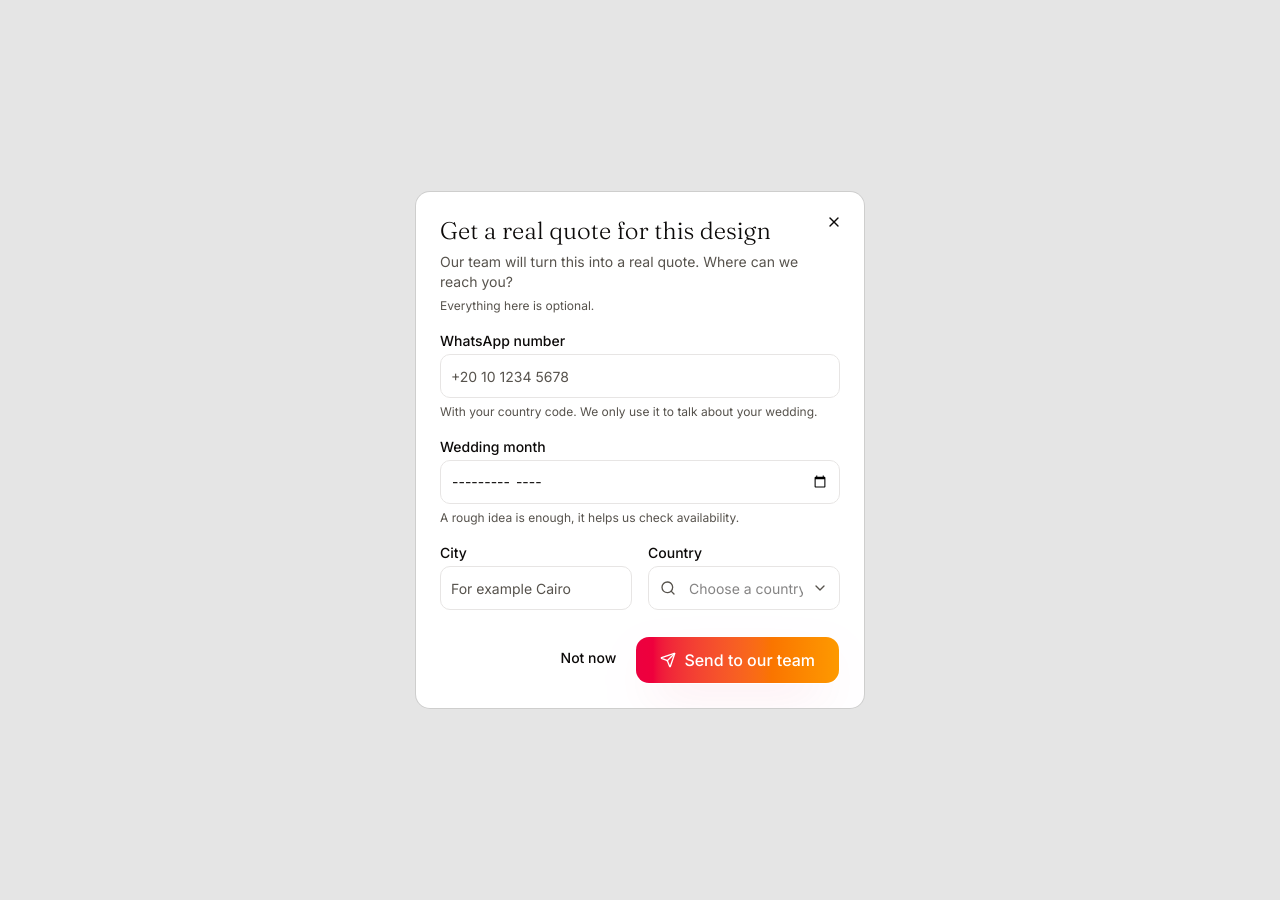
Scenario: ApproveDesignDialog › stops a phone that is not a number, and says how to fix it
In the field labelled "WhatsApp number": (640, 376) [440,354,840,398], type "call my mum"
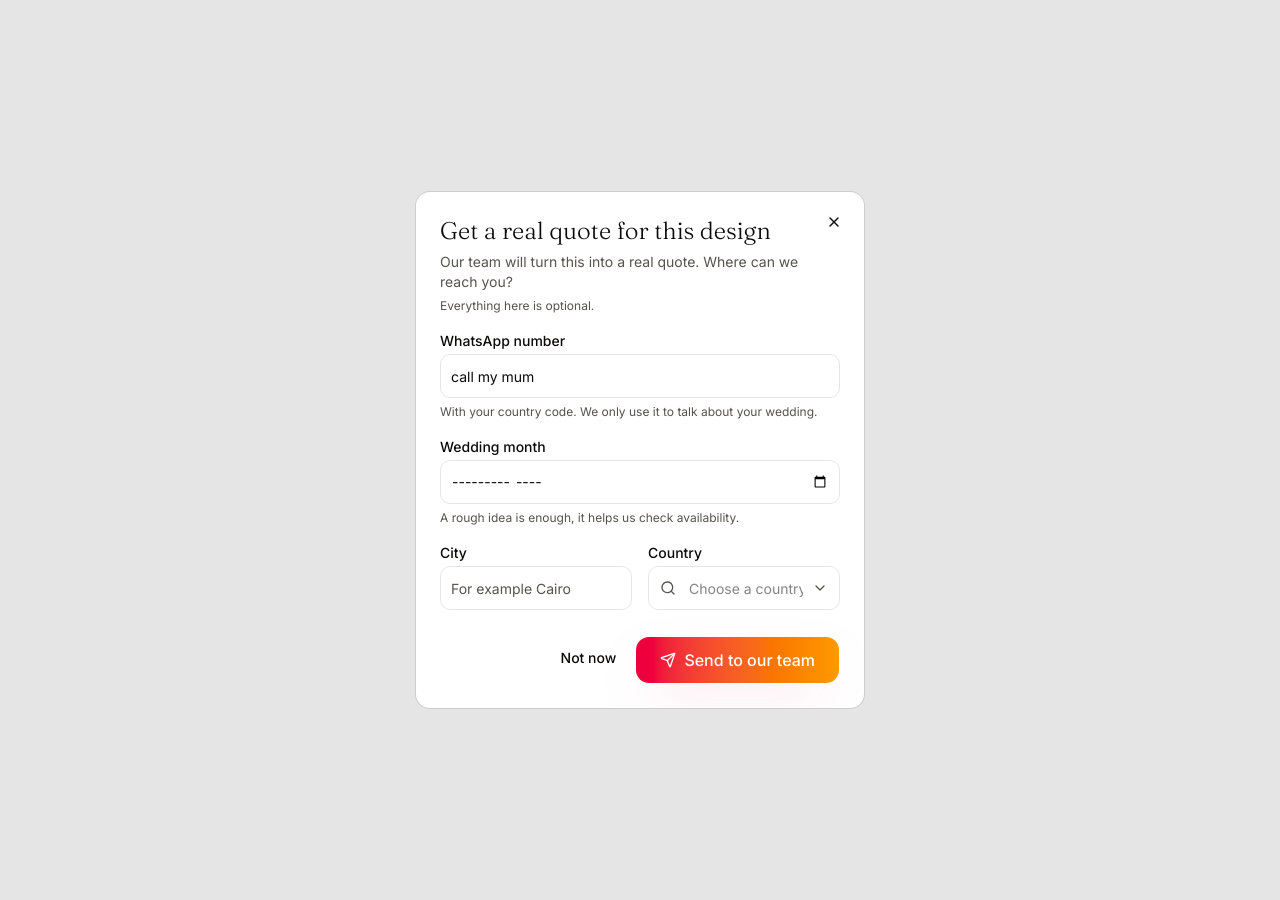
Click the button "Send to our team": (738, 660) [635,636,840,684]
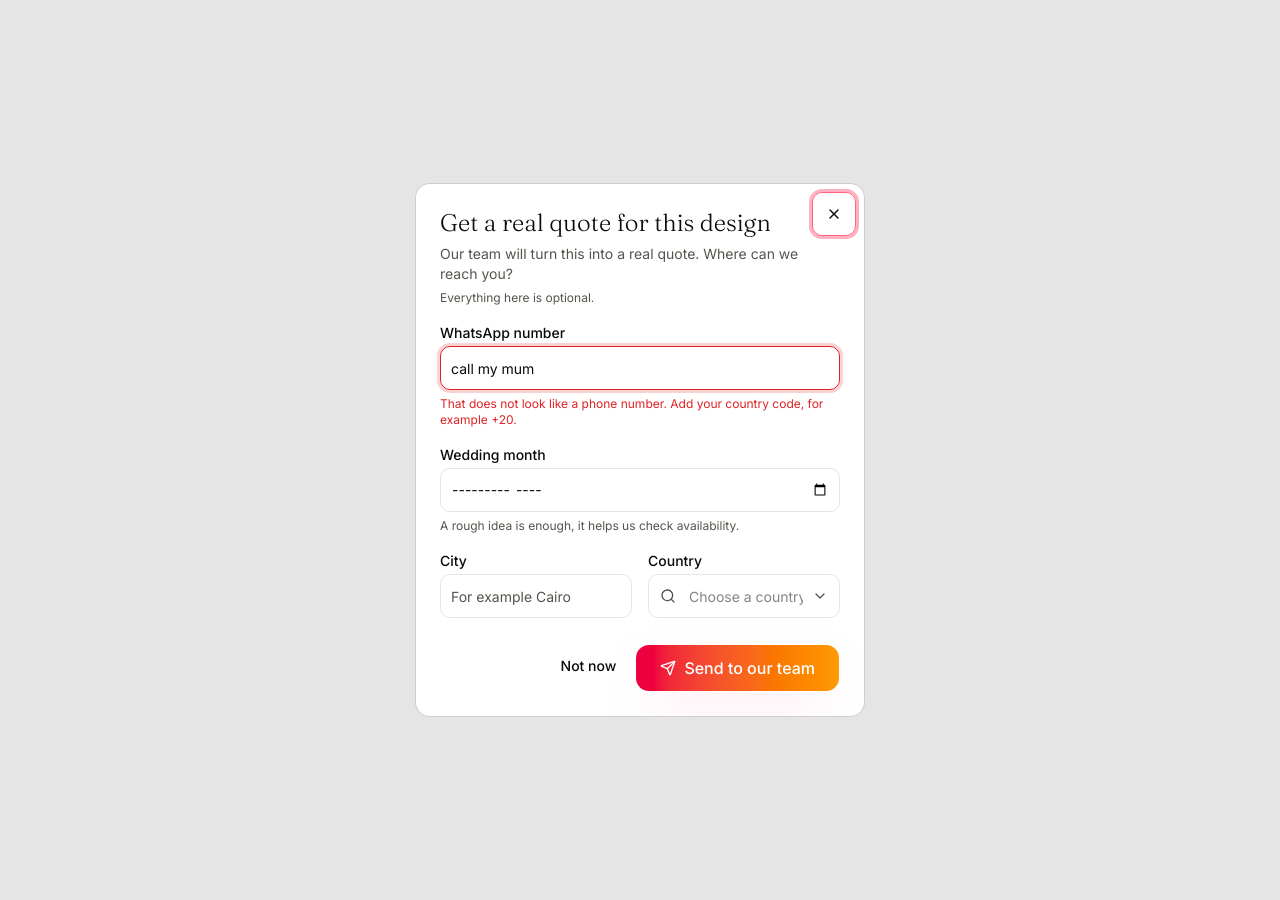
Expected: the text "Add your country code" is shown, [440,396,823,427]
